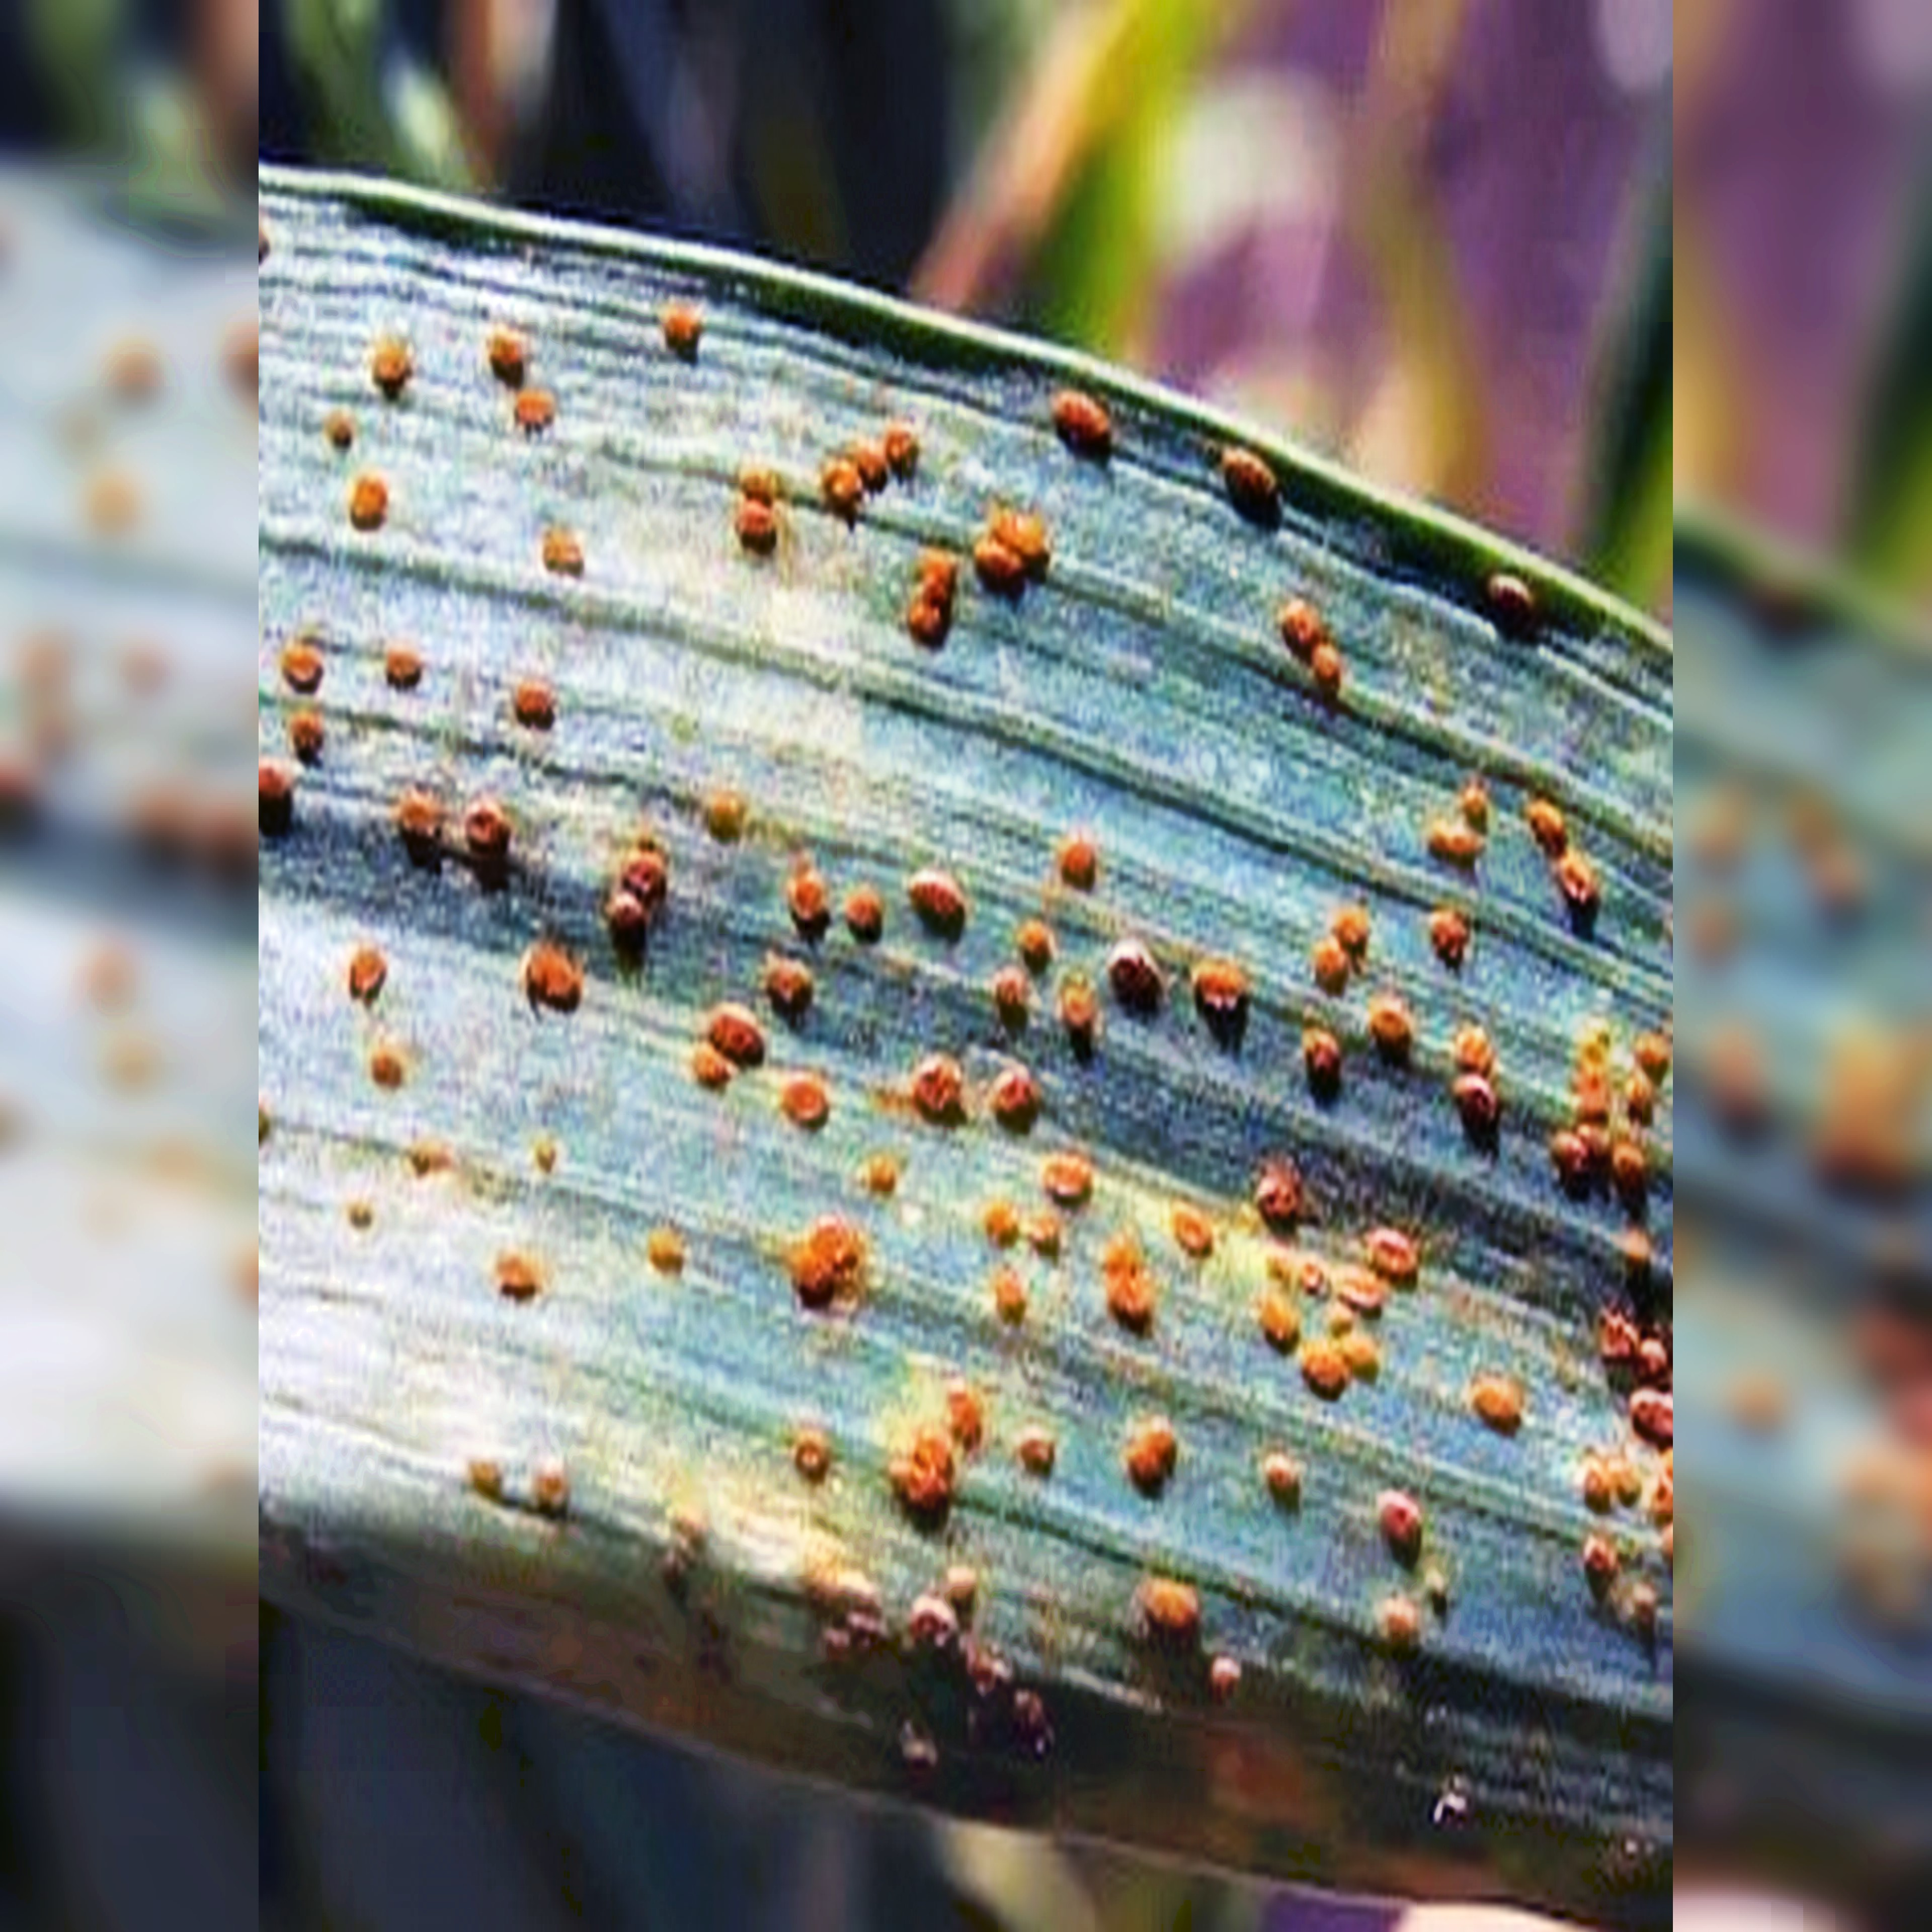Leaf Rust: (294, 269, 1660, 1810)
